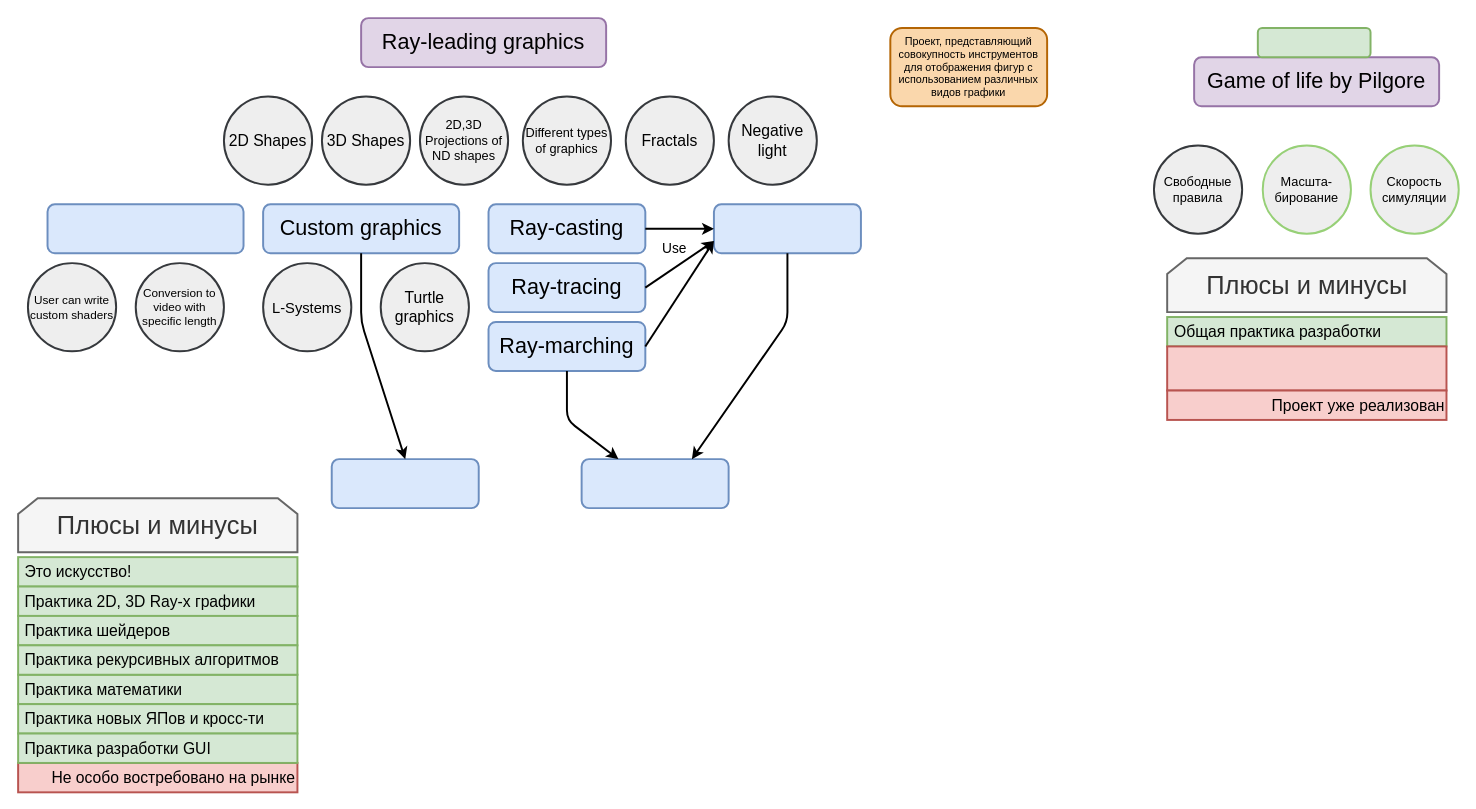
Some shapes in this 1476 by 809 pixel diagram are drawn without their labels. Here are the shapes that lost their labels. From the top down, the box of each, then its label:
(1256, 26, 1371, 58): Уже реализовано
(46, 203, 244, 254): Fragment shaders
(712, 203, 861, 254): Anti light
(1166, 345, 1447, 391): Бесполезно с практической точки зрения
(330, 458, 479, 509): 2D Fractals
(580, 458, 729, 509): 3D+ Fractals
